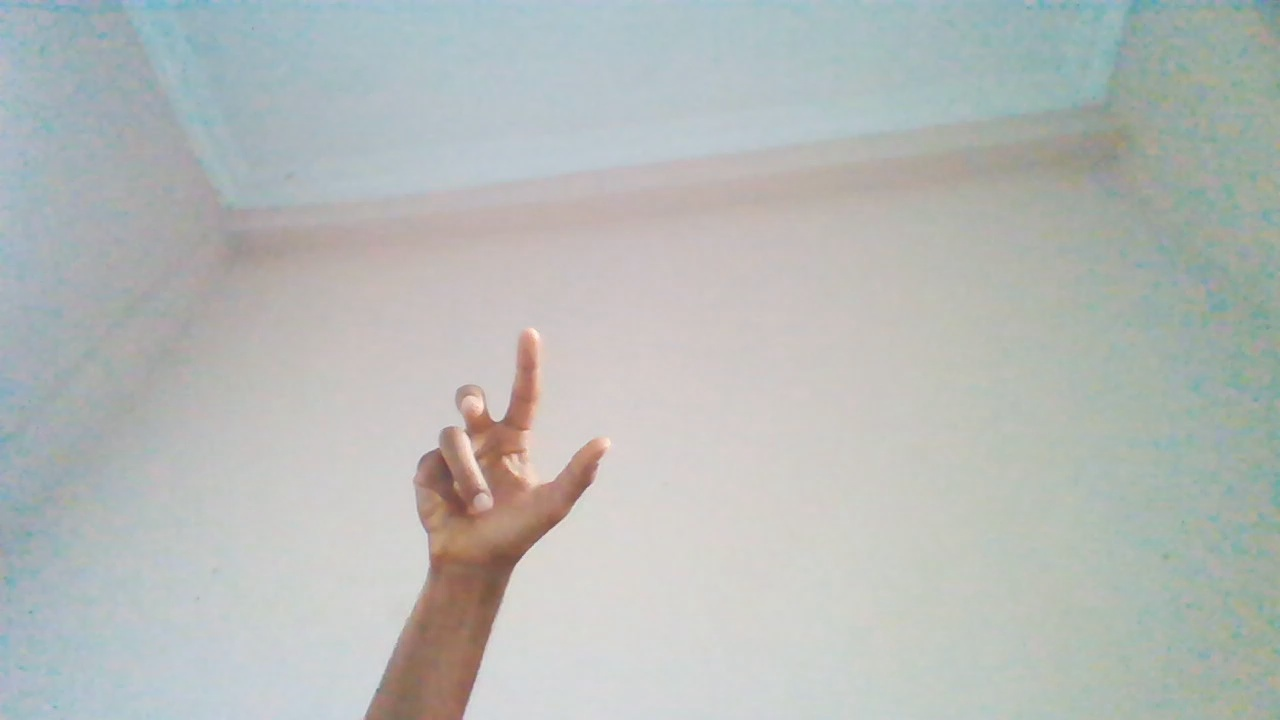hhe: (409, 333, 606, 673)
